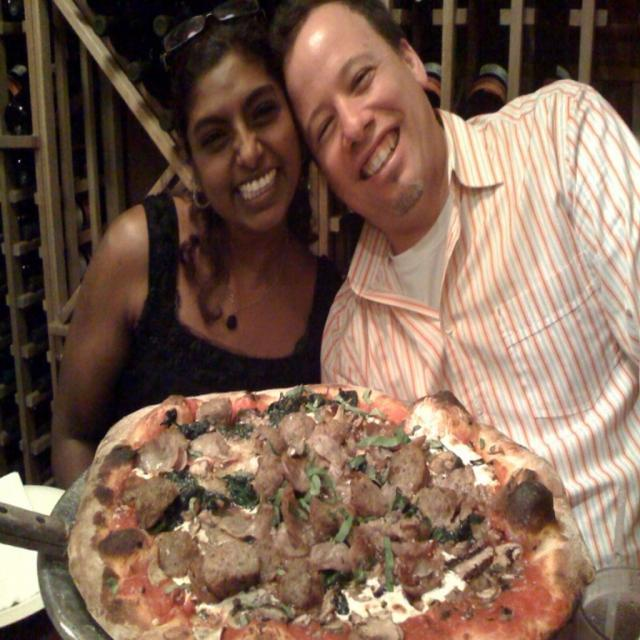Pizza: (57, 372, 572, 640)
